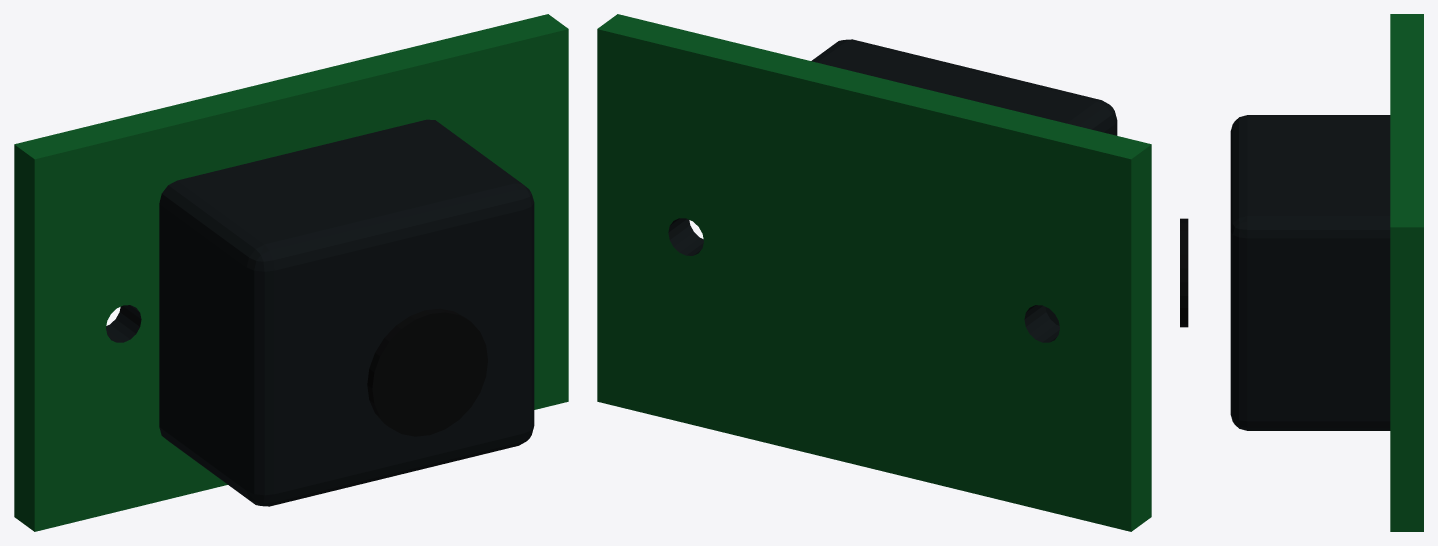
File: kit_optical_sensor.obj
3 views of the same model, side by side, from view 1: azimuth 30°, elevation 25°; view 2: azimuth 150°, elevation 25°; view 3: azimuth 270°, elevation 25° (orthographic). The views are drawn at different scales.
Parts seen in each view (by area): view 1: kit_optical_sensor; view 2: kit_optical_sensor; view 3: kit_optical_sensor.
Boxes of the visible parts, <box> form: kit_optical_sensor: <box>14,14,568,531</box>; kit_optical_sensor: <box>597,14,1151,531</box>; kit_optical_sensor: <box>1180,14,1423,531</box>.
Size of the model in its own units: 0.06 by 0.04 by 0.029.
